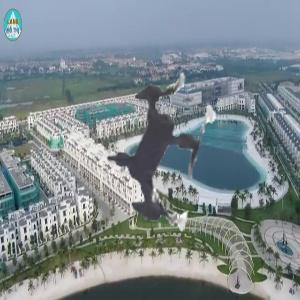drone: (40, 29, 277, 266)
